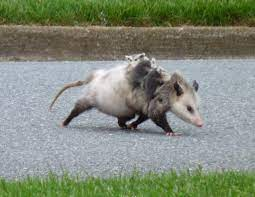opossum: (50, 52, 206, 141)
